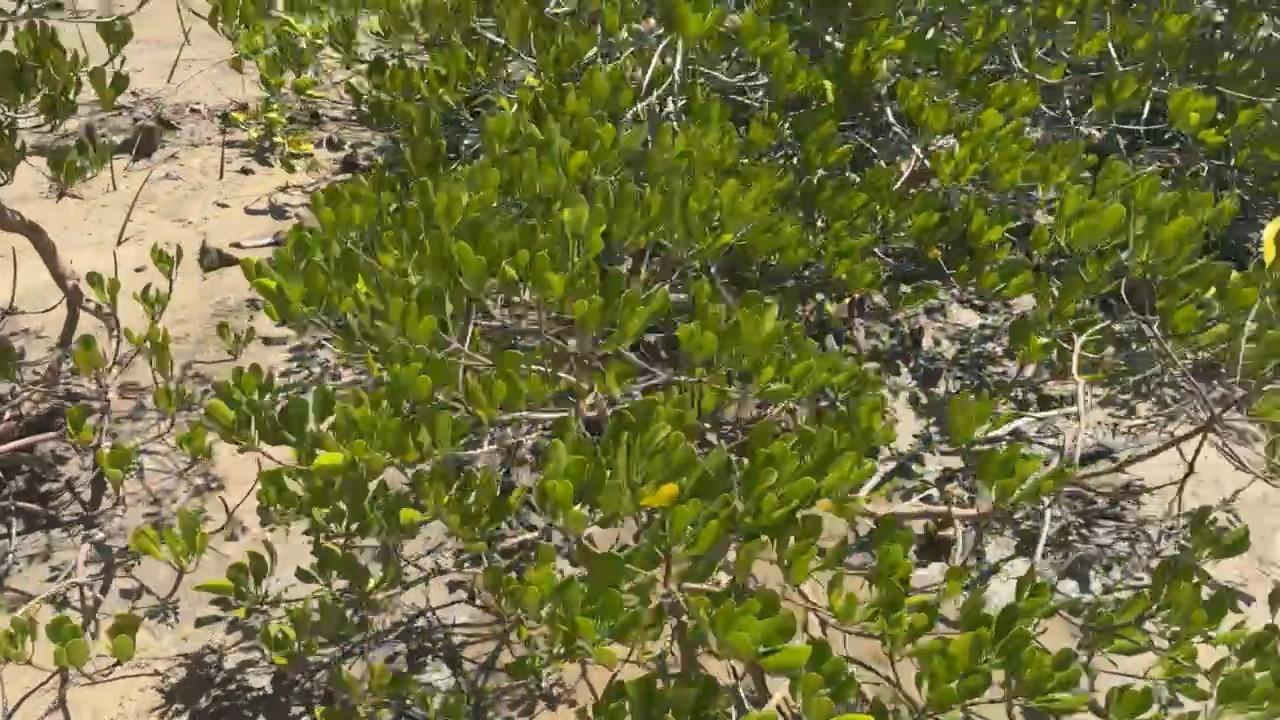Tree: (114, 169, 153, 247), (166, 25, 193, 84), (219, 134, 226, 179), (109, 153, 117, 192)
